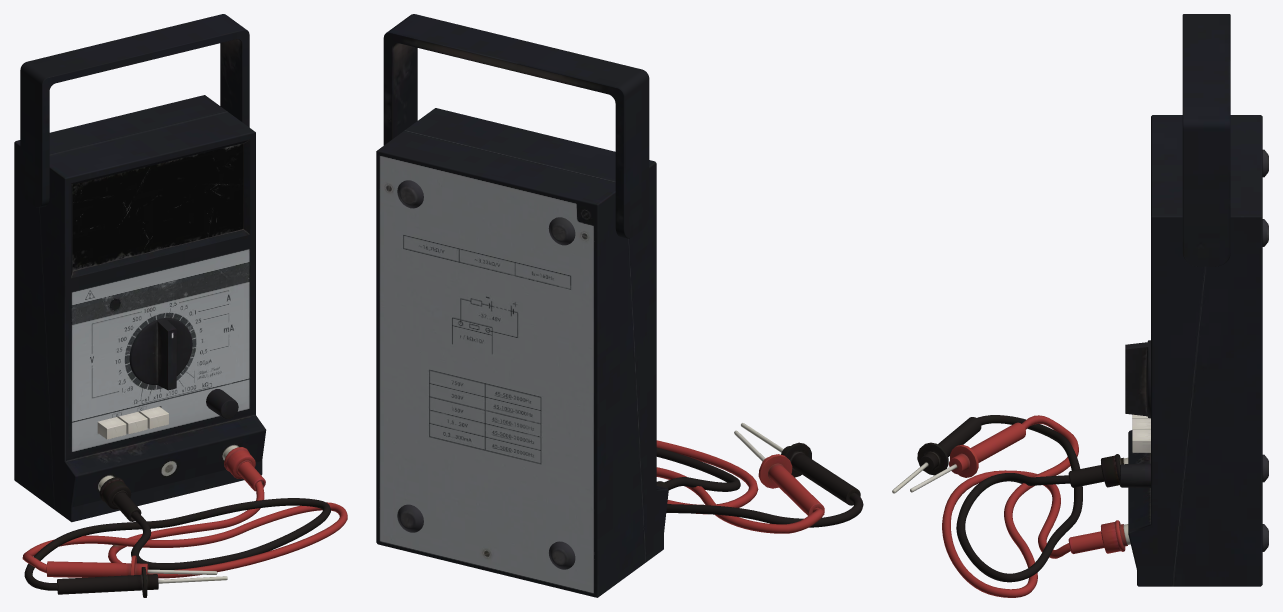
File: retro_multimeter_1k.glb
3 renders of one model, left to right at view 1: azimuth 30°, elevation 25°; view 2: azimuth 150°, elevation 25°; view 3: azimuth 270°, elevation 25°, orthographic. The views are drawn at different scales.
Parts seen in each view (by area): view 1: retro_multimeter_LOD0, retro_multimeter_cables_LOD0, retro_multimeter_handle_LOD0, retro_multimeter_dial_LOD0, retro_multimeter_buttons_LOD0, retro_multimeter_knob_LOD0; view 2: retro_multimeter_LOD0, retro_multimeter_handle_LOD0, retro_multimeter_cables_LOD0; view 3: retro_multimeter_LOD0, retro_multimeter_cables_LOD0, retro_multimeter_handle_LOD0, retro_multimeter_dial_LOD0, retro_multimeter_knob_LOD0, retro_multimeter_buttons_LOD0.
Boxes of the visible parts, bbox=[...] form: retro_multimeter_LOD0: bbox=[14, 95, 266, 522]; retro_multimeter_cables_LOD0: bbox=[22, 445, 347, 597]; retro_multimeter_handle_LOD0: bbox=[20, 14, 249, 207]; retro_multimeter_dial_LOD0: bbox=[129, 318, 192, 390]; retro_multimeter_buttons_LOD0: bbox=[97, 406, 168, 439]; retro_multimeter_knob_LOD0: bbox=[206, 389, 238, 418]; retro_multimeter_LOD0: bbox=[376, 108, 668, 597]; retro_multimeter_handle_LOD0: bbox=[383, 14, 649, 238]; retro_multimeter_cables_LOD0: bbox=[656, 423, 863, 533]; retro_multimeter_LOD0: bbox=[1128, 115, 1268, 586]; retro_multimeter_cables_LOD0: bbox=[892, 415, 1130, 597]; retro_multimeter_handle_LOD0: bbox=[1182, 14, 1230, 266]; retro_multimeter_dial_LOD0: bbox=[1125, 340, 1150, 418]; retro_multimeter_knob_LOD0: bbox=[1120, 463, 1150, 487]; retro_multimeter_buttons_LOD0: bbox=[1132, 414, 1150, 452].
Bounding box in the file's own units: 0.216 × 0.2786 × 0.2026.
2 materials, 2 textured.
